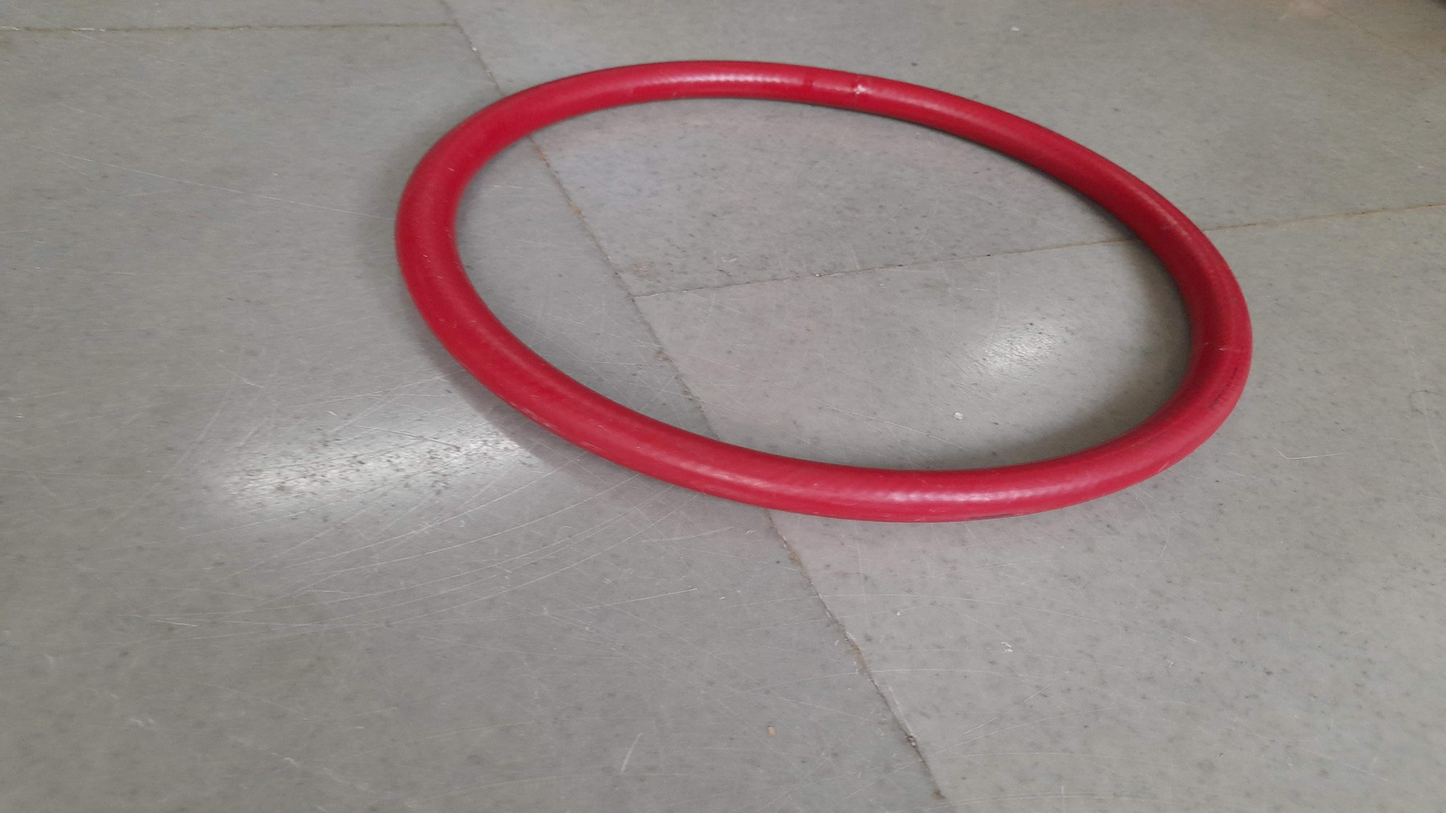Red ring: (398, 62, 1256, 519)
